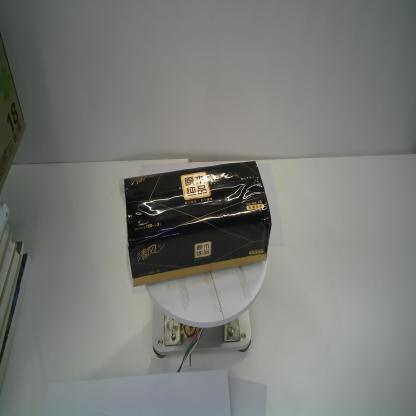Tissue: (118, 158, 272, 290)
